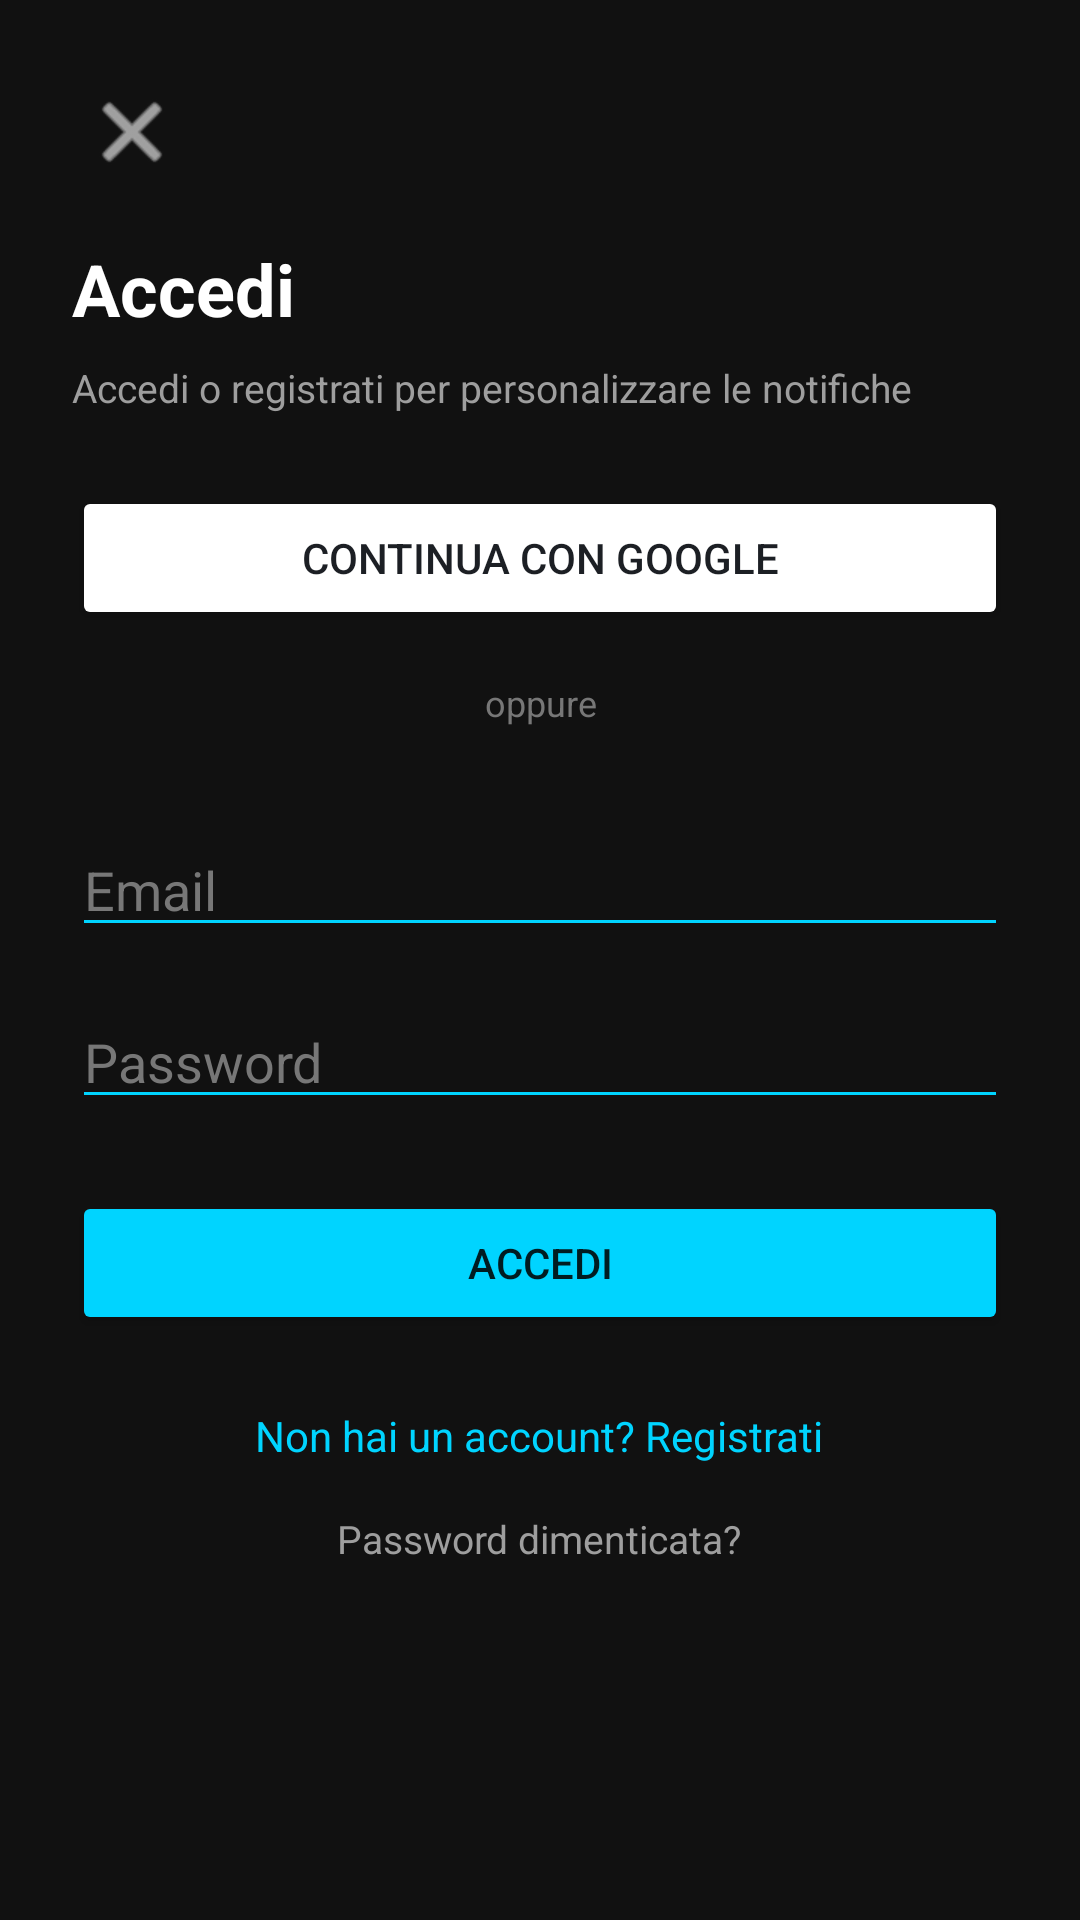

Screen size 1080px×1920px. Icon name, then its box in pixels as {"x1": x1, "y1": y1, "x2": x2, "y2": y2}:
Indietro: {"x1": 102, "y1": 102, "x2": 162, "y2": 162}
